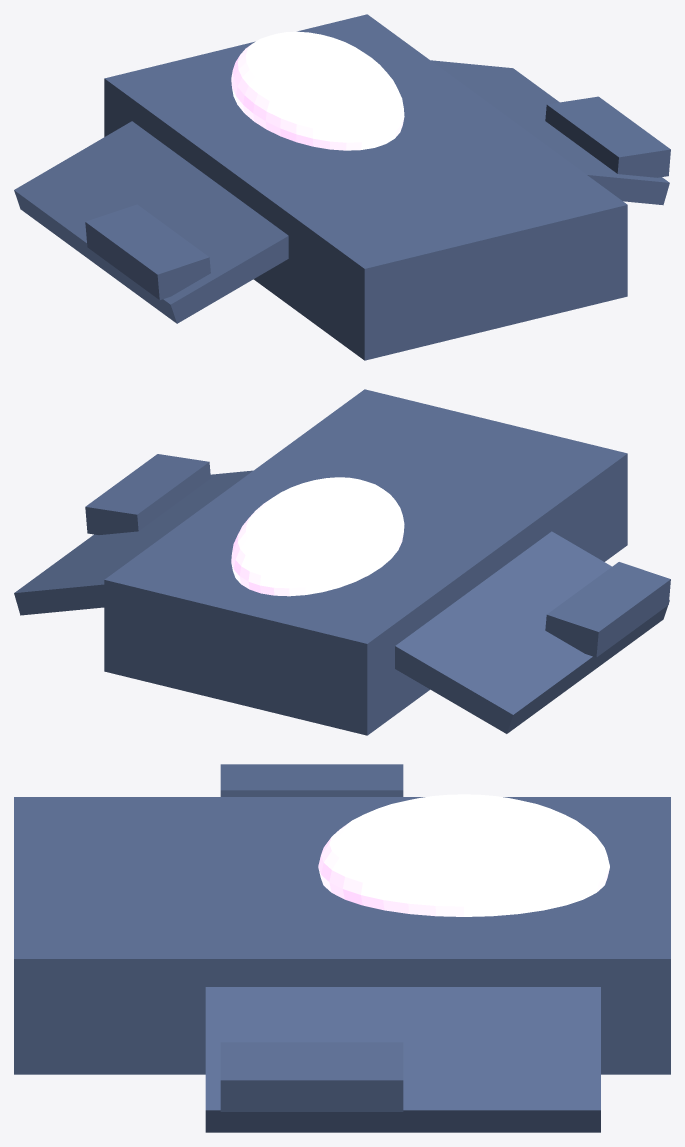
The model's file is astra_t1.glb.
The picture shows the model from 3 angles, top to bottom: view 1: azimuth 30°, elevation 25°; view 2: azimuth 150°, elevation 25°; view 3: azimuth 270°, elevation 25°; orthographic projection. The views are drawn at different scales.
Visible parts, largest first — view 1: Cube, Cube.002, Sphere, Cube.001, Cube.004, Cube.003; view 2: Cube, Cube.002, Sphere, Cube.001, Cube.004, Cube.003; view 3: Cube, Cube.001, Sphere, Cube.003, Cube.004.
Part boxes in pixels (x1,y1,x2,y2): Cube: (104,14,627,360); Cube.002: (14,121,288,323); Sphere: (231,31,404,150); Cube.001: (431,60,669,205); Cube.004: (85,204,210,299); Cube.003: (545,96,670,177); Cube: (104,389,627,735); Cube.002: (395,531,669,733); Sphere: (231,477,404,596); Cube.001: (14,470,252,615); Cube.004: (545,562,670,657); Cube.003: (85,454,210,534); Cube: (14,797,670,1074); Cube.001: (205,987,600,1132); Sphere: (318,794,609,916); Cube.003: (220,1042,403,1111); Cube.004: (220,764,403,796).
Bounding box in the file's own units: 2.46 × 0.68 × 2.16.
